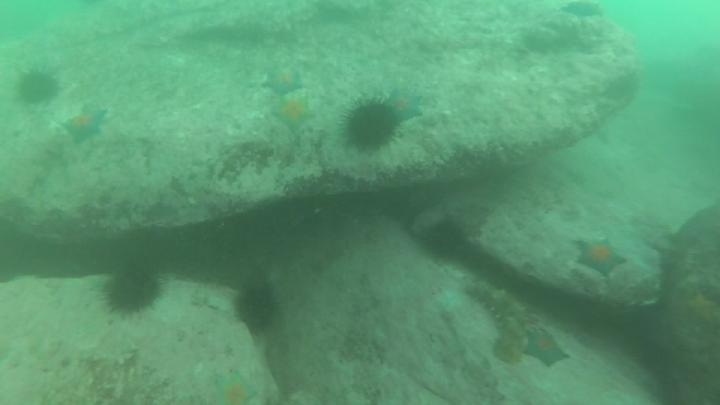echinus: (338, 98, 404, 156), (102, 264, 169, 320), (231, 283, 280, 334), (428, 215, 469, 267), (12, 66, 63, 106)
holothurian: (463, 281, 529, 366)
starfish: (570, 235, 630, 281), (523, 325, 574, 371), (271, 94, 319, 137), (381, 88, 428, 127), (62, 110, 108, 146), (259, 63, 306, 97), (682, 288, 720, 330), (212, 372, 258, 405)
